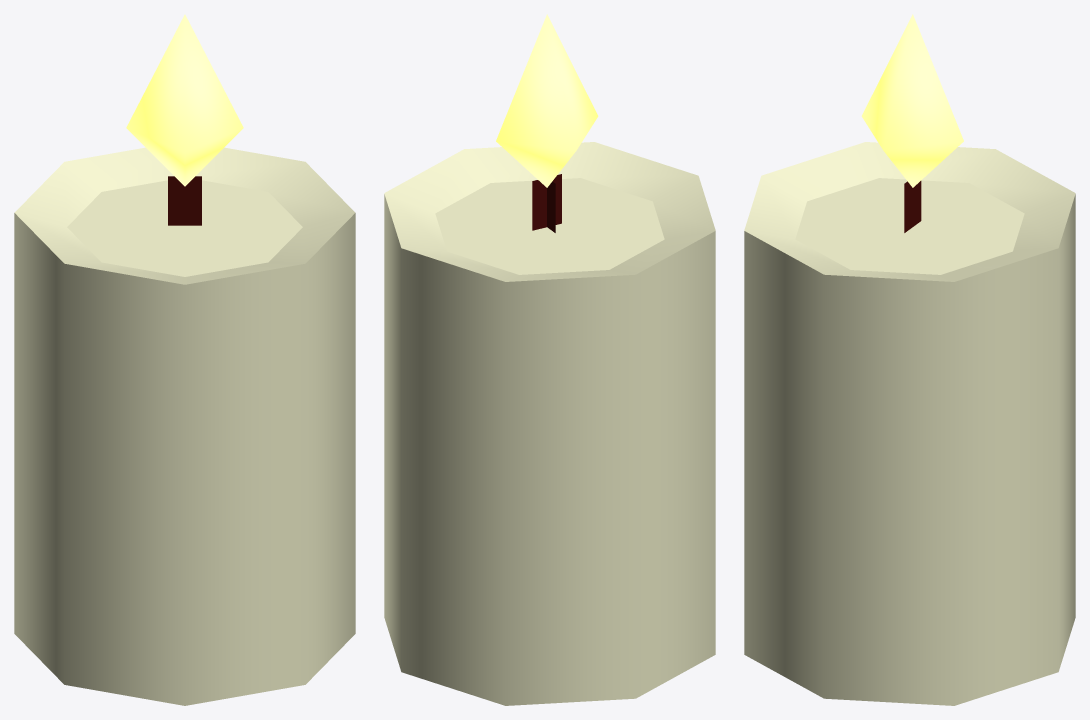
Rendered from Candle_Art.fbx.
The picture shows the model from 3 angles, left to right: view 1: azimuth 30°, elevation 25°; view 2: azimuth 150°, elevation 25°; view 3: azimuth 270°, elevation 25°; orthographic projection.
Visible parts, largest first — view 1: Candle_Art; view 2: Candle_Art; view 3: Candle_Art.
Boxes of the visible parts, x1=… form: Candle_Art: x1=14, y1=14, x2=355, y2=705; Candle_Art: x1=384, y1=14, x2=715, y2=705; Candle_Art: x1=744, y1=14, x2=1075, y2=705.
Size of the model in its own units: 0.3885 by 0.805 by 0.3885.
